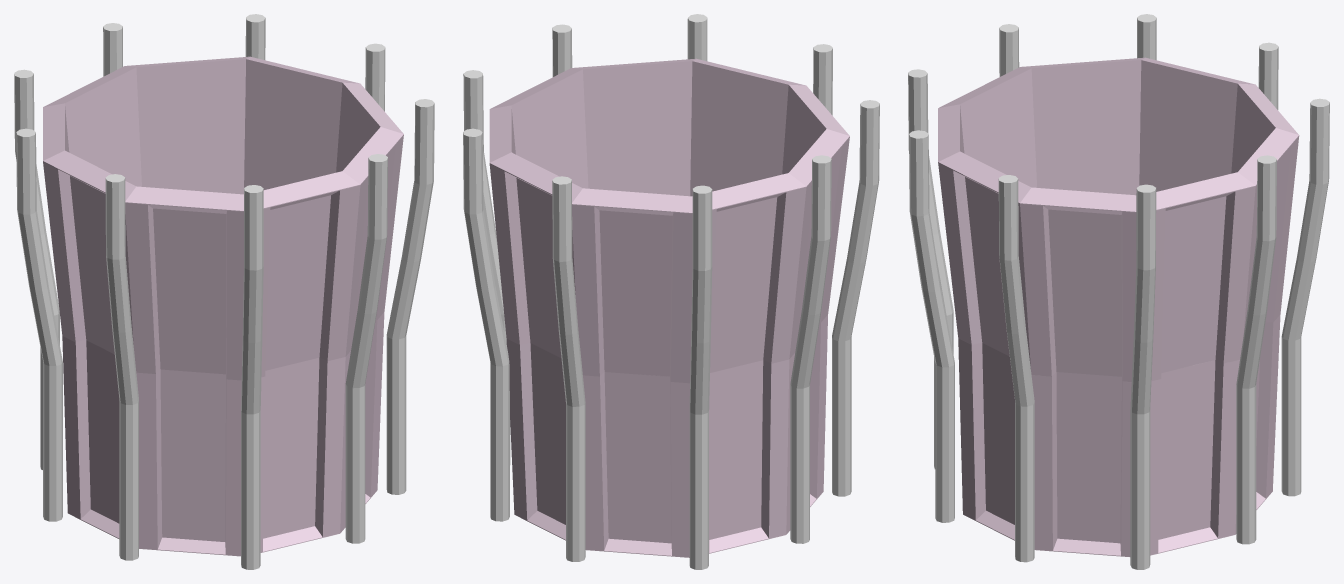
The model's file is Try_Xyini_97.fbx.
3 views of the same model, side by side, from view 1: azimuth 30°, elevation 25°; view 2: azimuth 150°, elevation 25°; view 3: azimuth 270°, elevation 25° (orthographic).
Visible parts, largest first — view 1: Cylinder.037, Cylinder.039, Cylinder.040, Cylinder.043, Cylinder.042, Cylinder.041, Cylinder.044, Cylinder.038, Cylinder.045, Cylinder.046; view 2: Cylinder.037, Cylinder.042, Cylinder.046, Cylinder.043, Cylinder.044, Cylinder.045, Cylinder.038, Cylinder.041, Cylinder.039, Cylinder.040; view 3: Cylinder.037, Cylinder.045, Cylinder.046, Cylinder.038, Cylinder.040, Cylinder.039, Cylinder.041, Cylinder.044, Cylinder.042, Cylinder.043.
Part boxes in pixels (left/top/right/bottom): Cylinder.037: left=43, top=56, right=403, bottom=556; Cylinder.039: left=386, top=99, right=434, bottom=494; Cylinder.040: left=345, top=154, right=387, bottom=543; Cylinder.043: left=16, top=128, right=62, bottom=521; Cylinder.042: left=105, top=174, right=138, bottom=560; Cylinder.041: left=241, top=185, right=263, bottom=569; Cylinder.044: left=14, top=69, right=59, bottom=469; Cylinder.038: left=365, top=43, right=385, bottom=111; Cylinder.045: left=103, top=23, right=122, bottom=76; Cylinder.046: left=245, top=14, right=265, bottom=59; Cylinder.037: left=489, top=58, right=849, bottom=557; Cylinder.042: left=832, top=100, right=879, bottom=496; Cylinder.046: left=463, top=128, right=509, bottom=521; Cylinder.043: left=790, top=155, right=831, bottom=543; Cylinder.044: left=689, top=185, right=712, bottom=569; Cylinder.045: left=552, top=176, right=585, bottom=561; Cylinder.038: left=463, top=70, right=510, bottom=464; Cylinder.041: left=813, top=44, right=832, bottom=115; Cylinder.039: left=552, top=24, right=572, bottom=76; Cylinder.040: left=687, top=14, right=707, bottom=61; Cylinder.037: left=938, top=57, right=1299, bottom=556; Cylinder.045: left=1281, top=98, right=1329, bottom=496; Cylinder.046: left=1236, top=155, right=1276, bottom=544; Cylinder.038: left=1130, top=184, right=1156, bottom=569; Cylinder.040: left=909, top=130, right=954, bottom=522; Cylinder.039: left=998, top=175, right=1034, bottom=562; Cylinder.041: left=908, top=69, right=953, bottom=468; Cylinder.044: left=1258, top=42, right=1278, bottom=109; Cylinder.042: left=999, top=24, right=1019, bottom=76; Cylinder.043: left=1137, top=14, right=1156, bottom=60.
Size of the model in its own units: 126 by 128 by 126.
